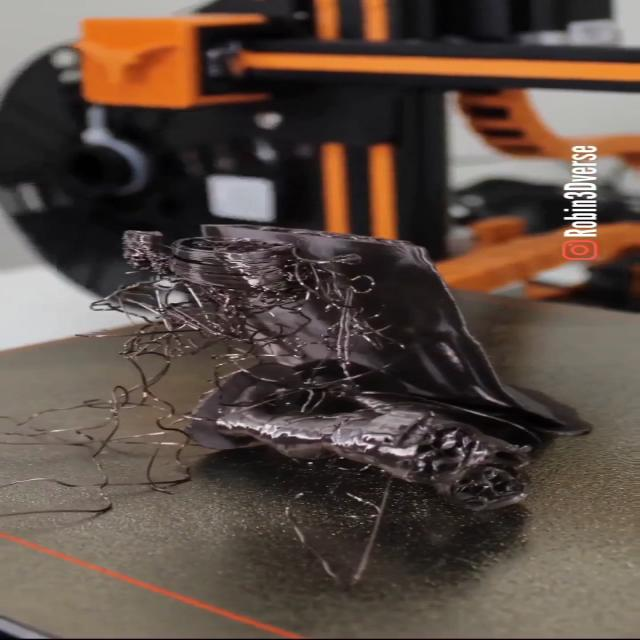spaghetti: (15, 225, 401, 601)
